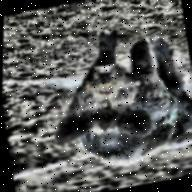boar: (43, 15, 192, 179)
